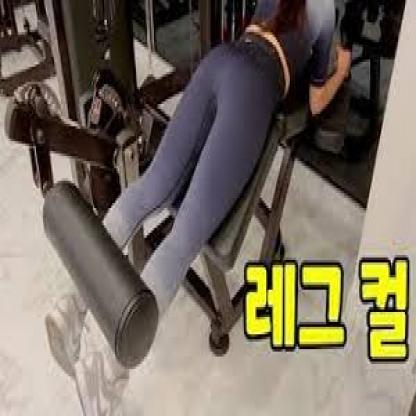reg curl machine: (44, 0, 353, 416)
